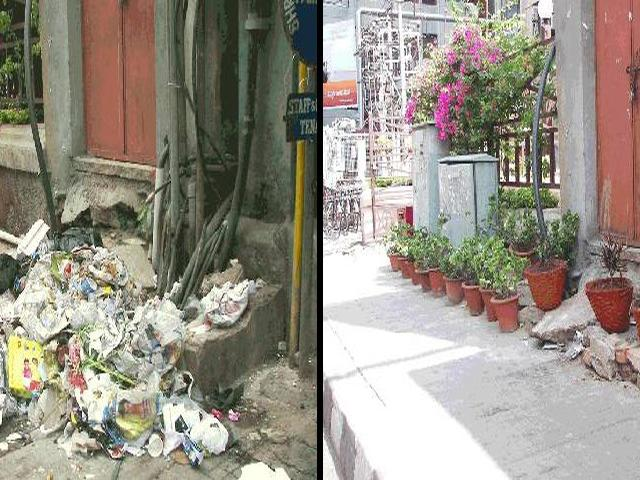garbage: (25, 231, 185, 452)
